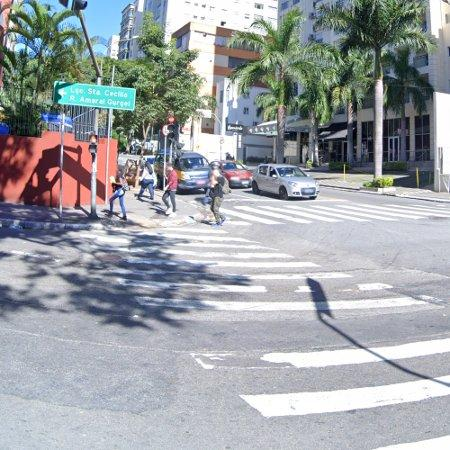crosswalks: (64, 226, 450, 450)
